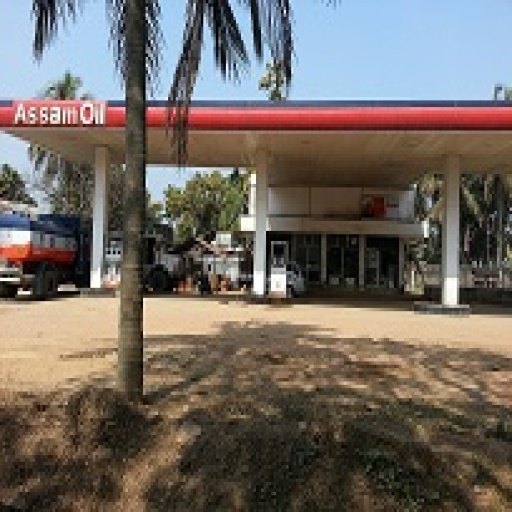roof: (1, 98, 512, 188)
